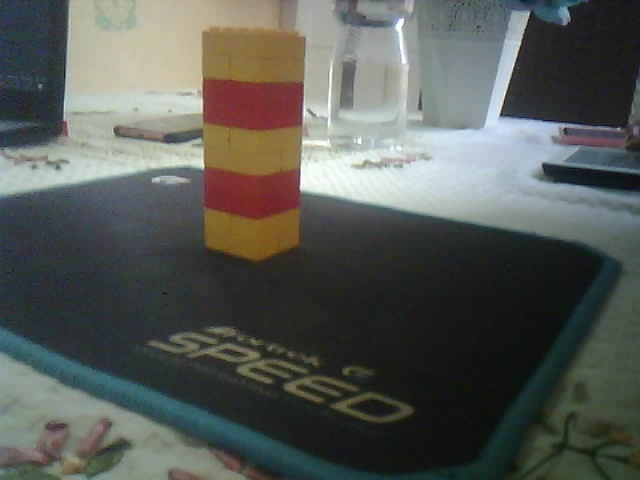lego: (199, 23, 307, 263)
